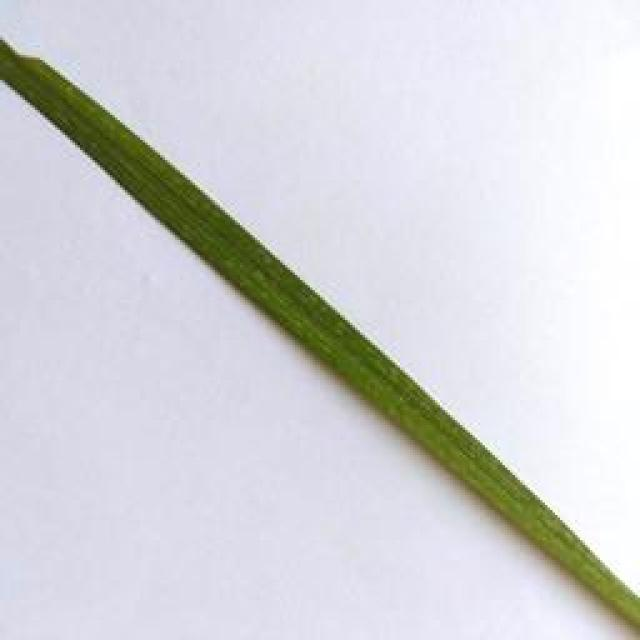Healthy-Plant: (0, 31, 640, 640)
